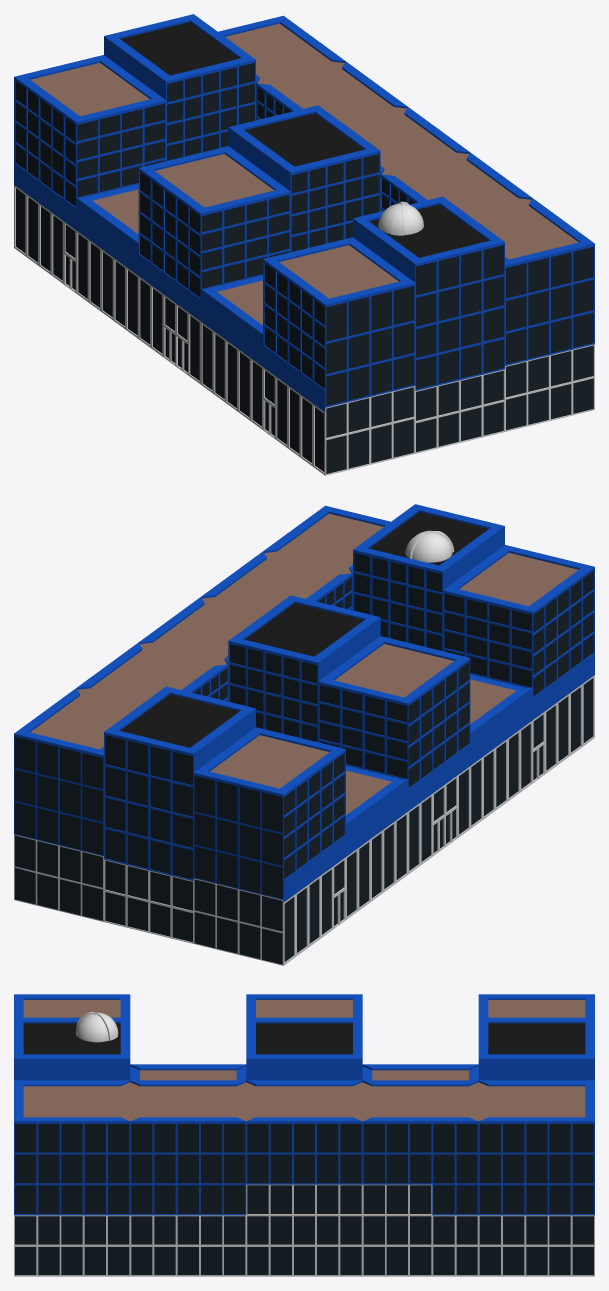
File: Bernoulliborg.fbx
The picture shows the model from 3 angles, top to bottom: view 1: azimuth 30°, elevation 25°; view 2: azimuth 150°, elevation 25°; view 3: azimuth 270°, elevation 25°; orthographic projection. The views are drawn at different scales.
Visible parts, largest first — view 1: Box001, Sphere001; view 2: Box001, Sphere001; view 3: Box001, Sphere001.
Part boxes in pixels (x1,y1,x2,y2): Box001: (14,14,594,475); Sphere001: (378,201,423,235); Box001: (14,504,594,965); Sphere001: (405,530,454,562); Box001: (14,994,594,1276); Sphere001: (76,1011,118,1042).
Size of the model in its own units: 118 by 87.62 by 236.
